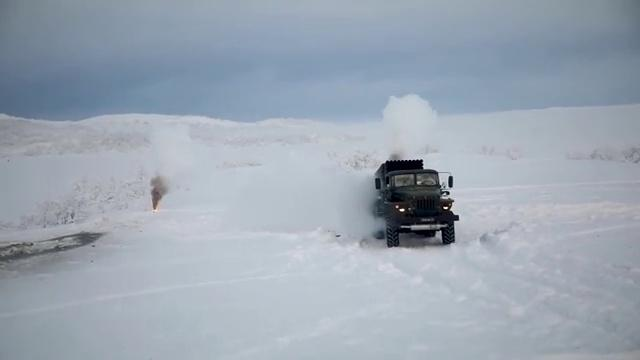MIL_SAM_TEL: (367, 155, 461, 251)
